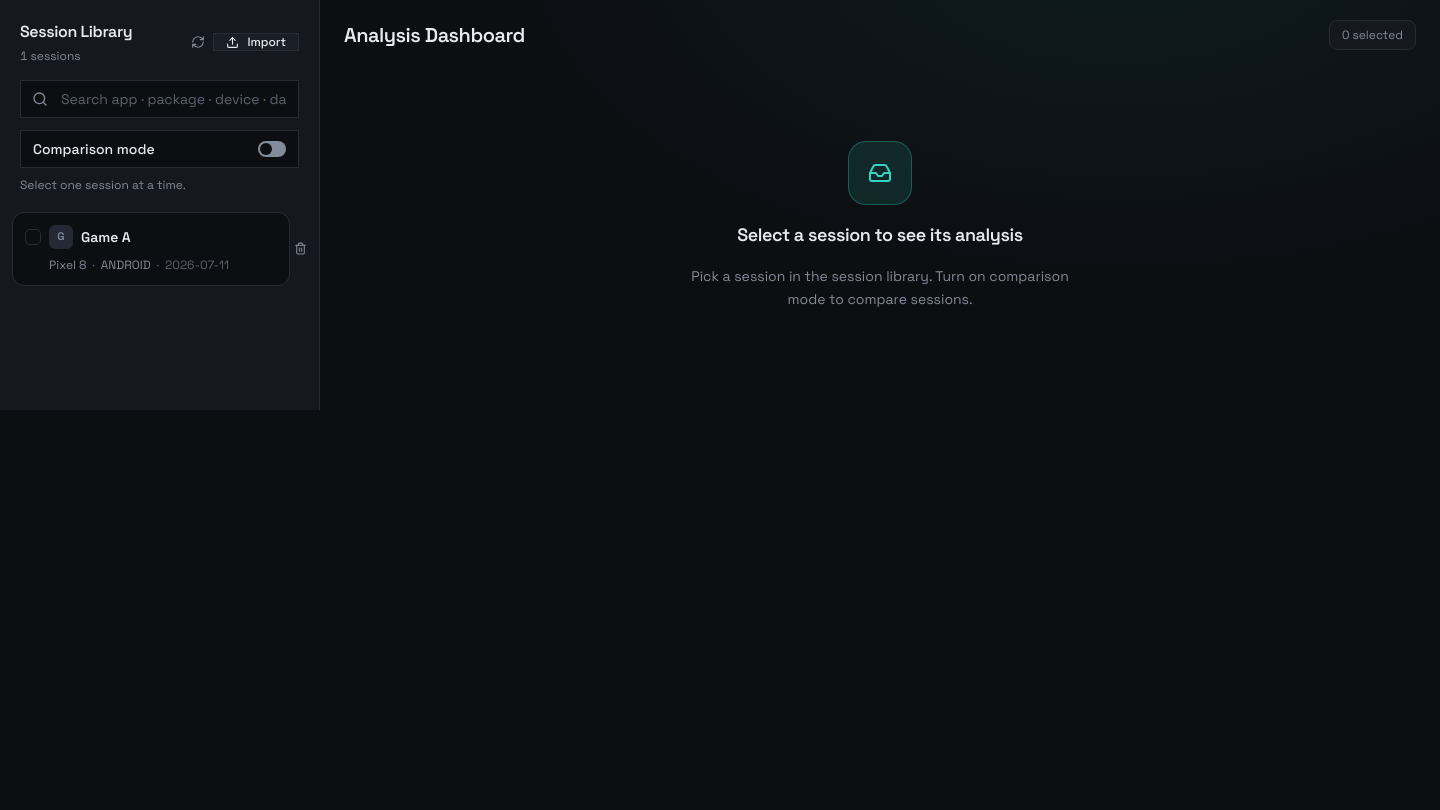
Test: AnalysisDashboard › preserves analysis and range drafts when a library event leaves the selection unchanged
Click the text "Game A": (106, 236) [81,228,131,246]
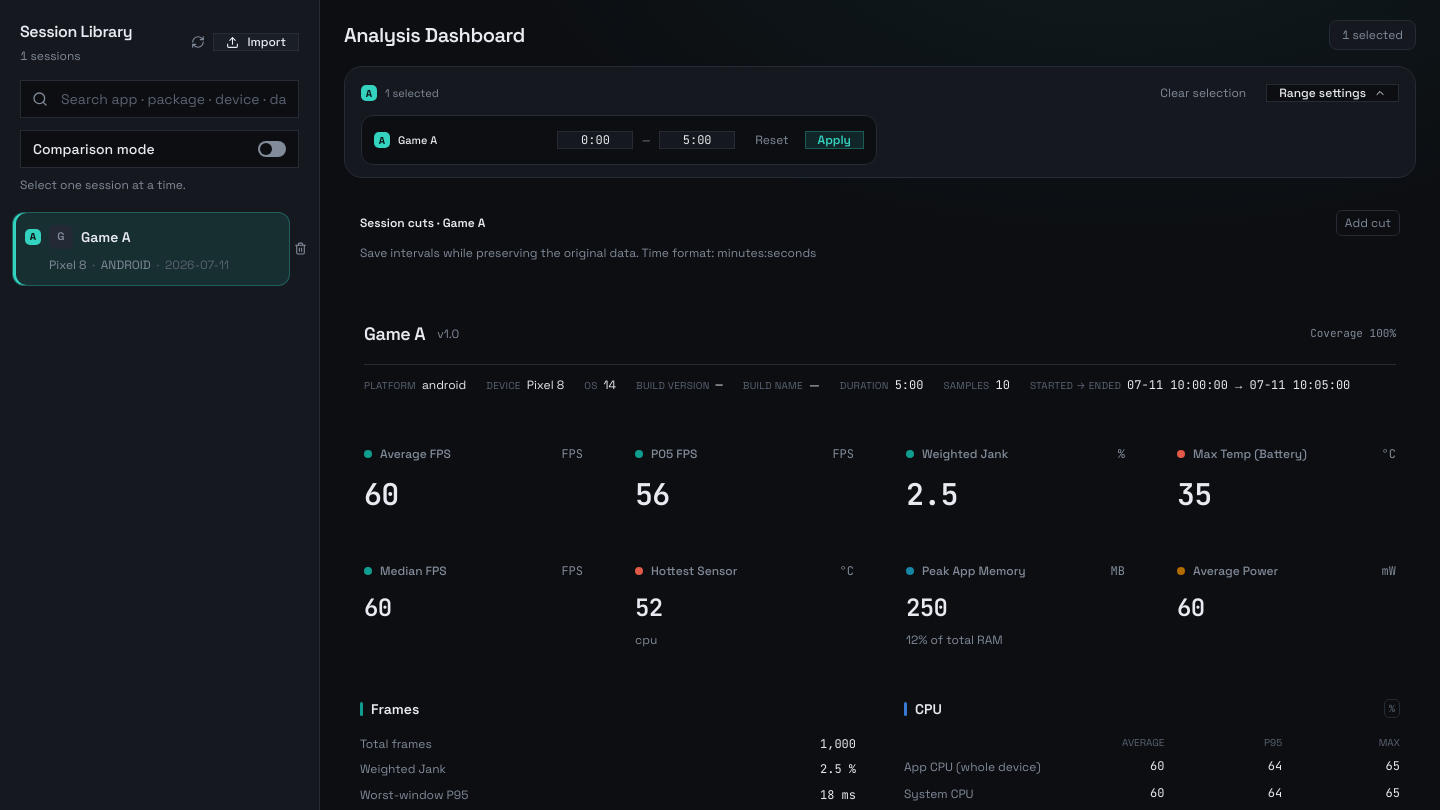
Result: the element with test id "range-editor-A" is shown at [361,115,877,165]
In the field named "A Start (m:ss)": (595, 140) [557,131,633,149], type "0:12"
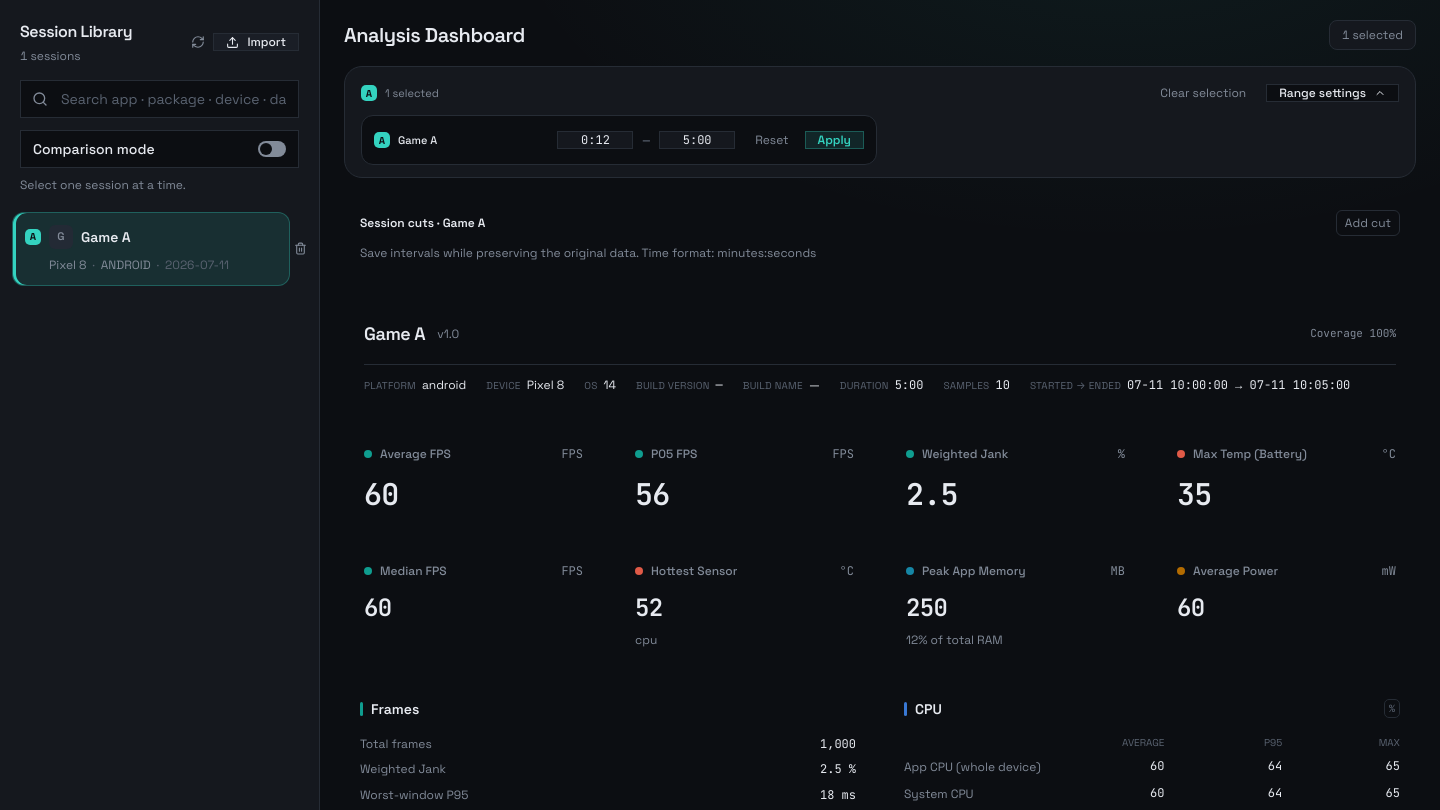
Replace the text in the field named "A End (m:ss)" with "1:30": (697, 140) [659,131,735,149]
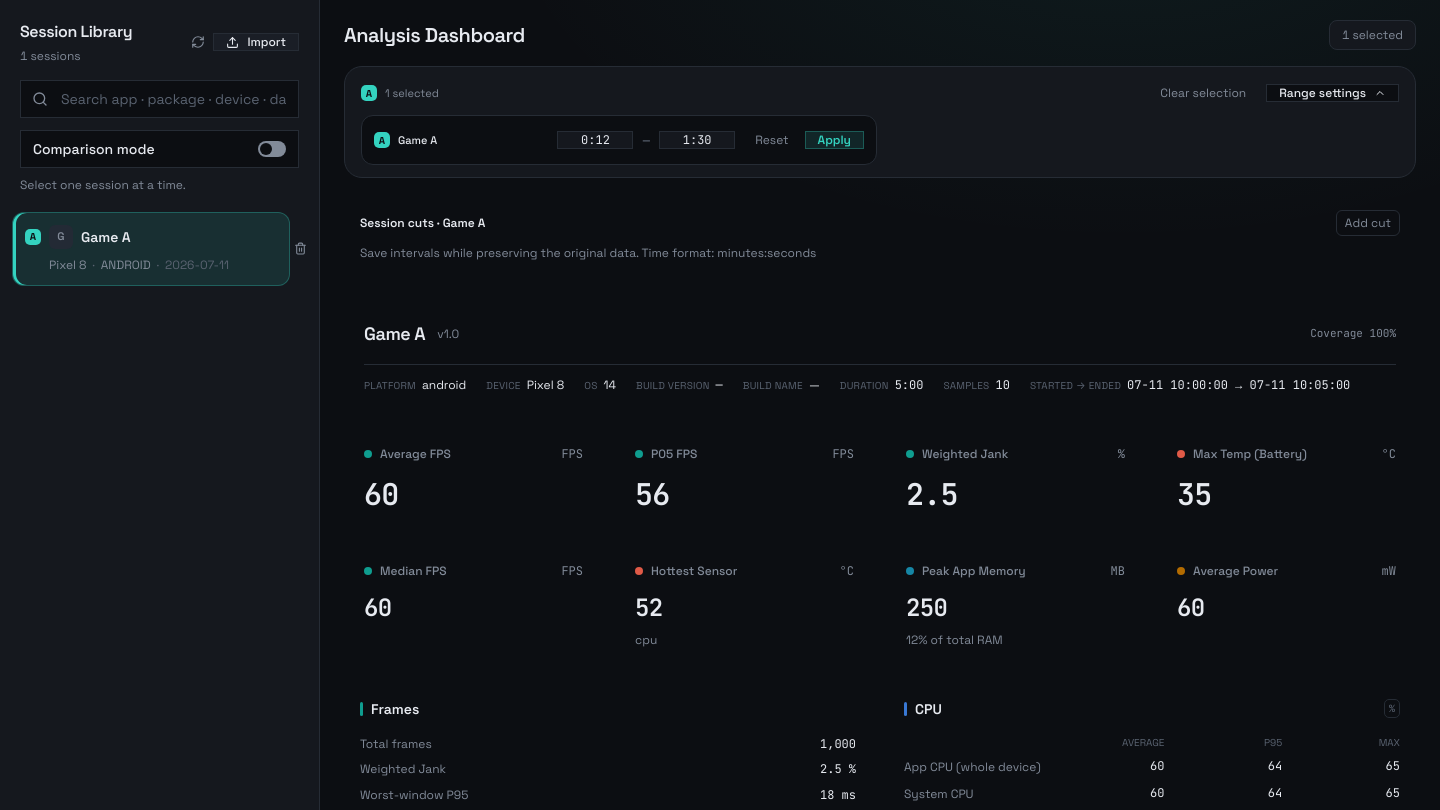
Click the button "Apply": (834, 140) [804,131,864,149]
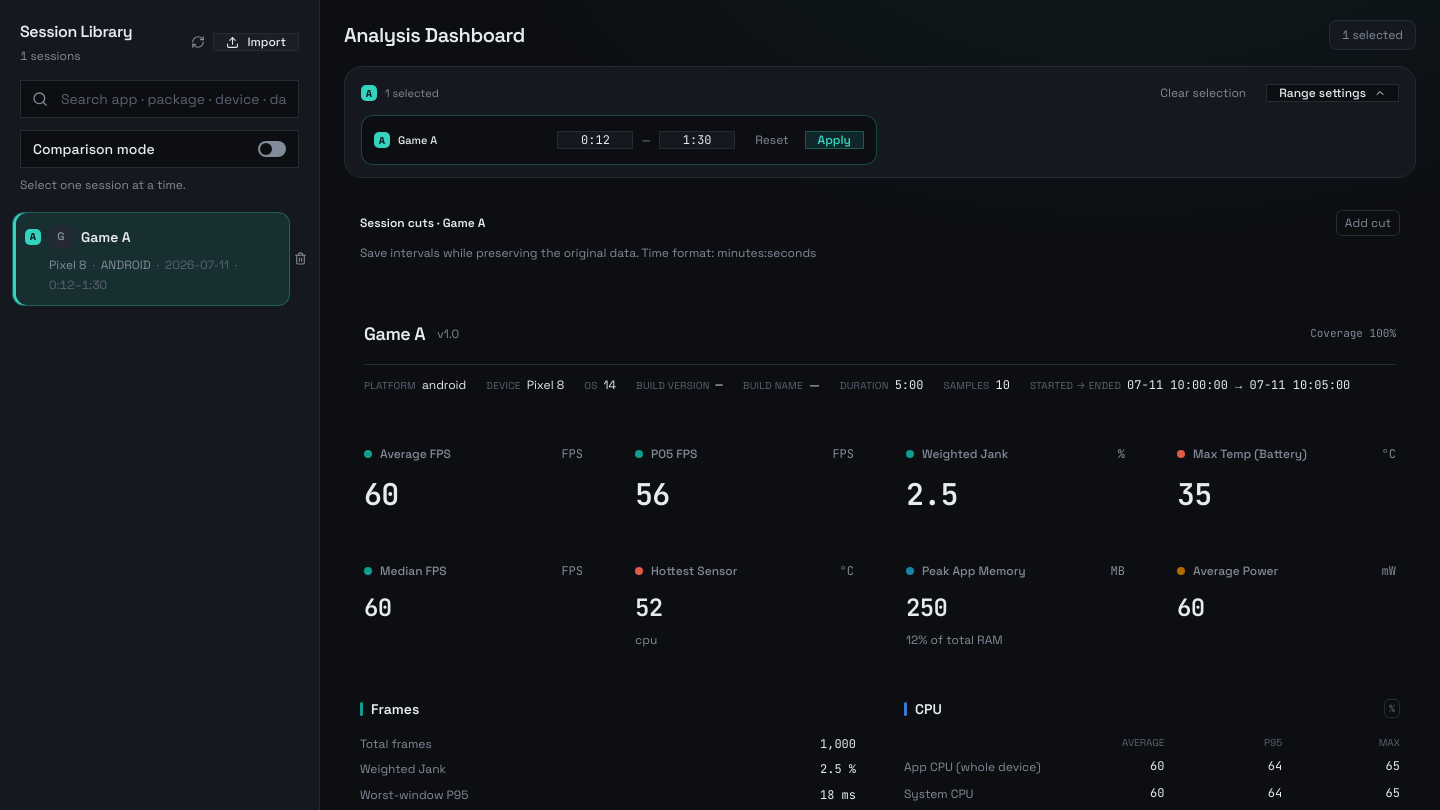
Result: the element with test id "range-editor-A" is shown at [361,115,877,165]
Replace the text in the field named "A Start (m:ss)" with "0:13.25": (595, 140) [557,131,633,149]
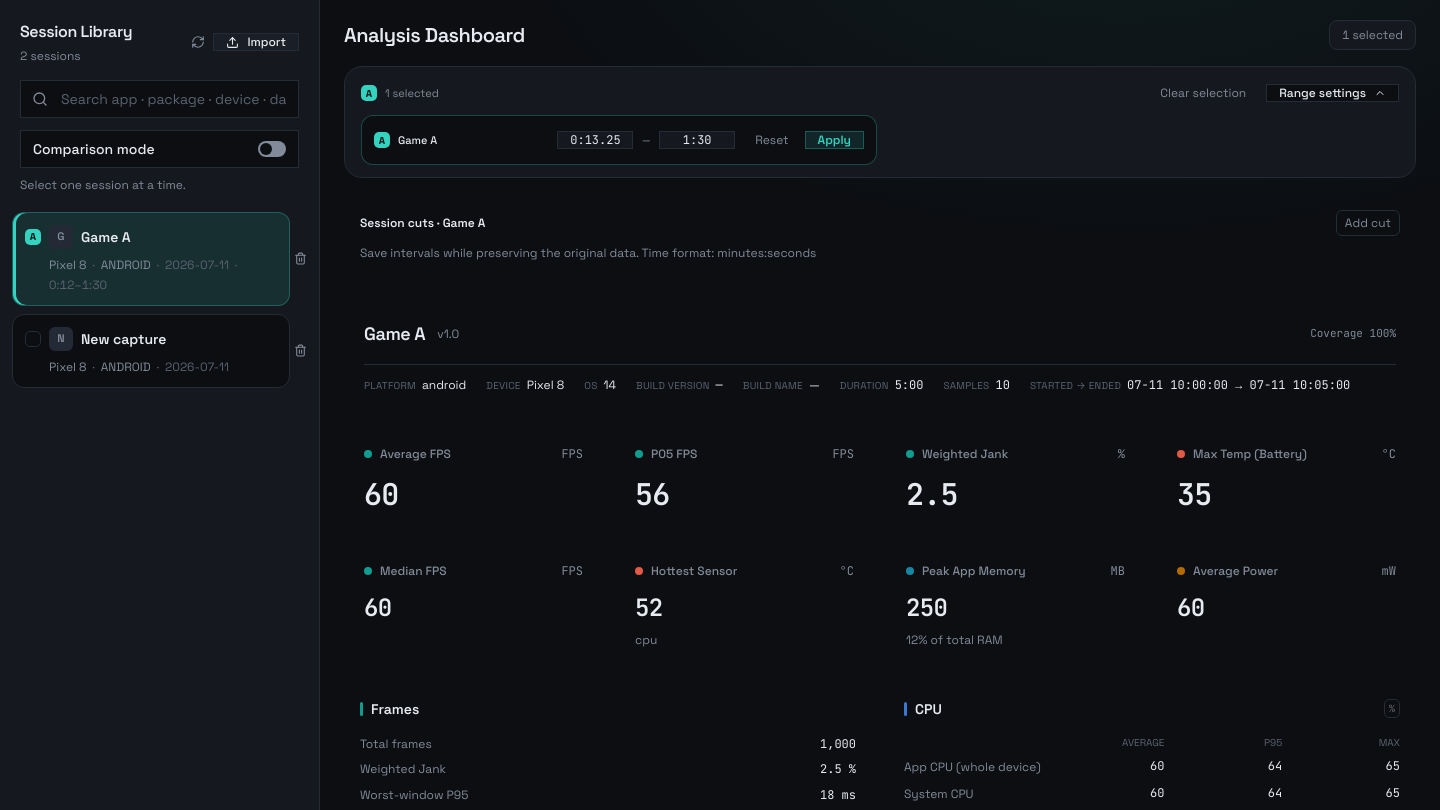
Result: the text "New capture" is shown at [81,330,166,348]
